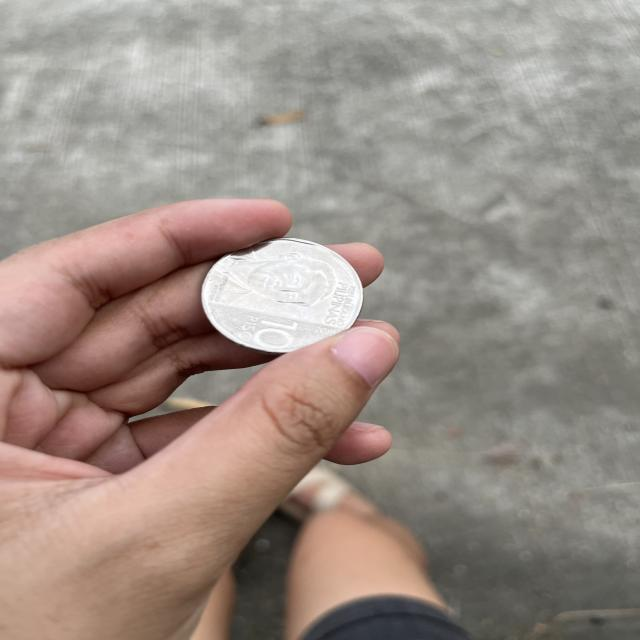10_New_Front: (240, 315, 304, 350)
